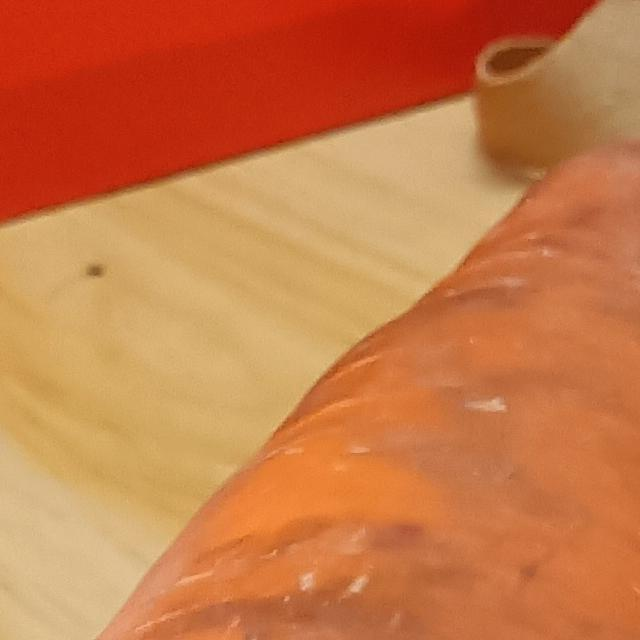carrot: (1, 106, 640, 640)
